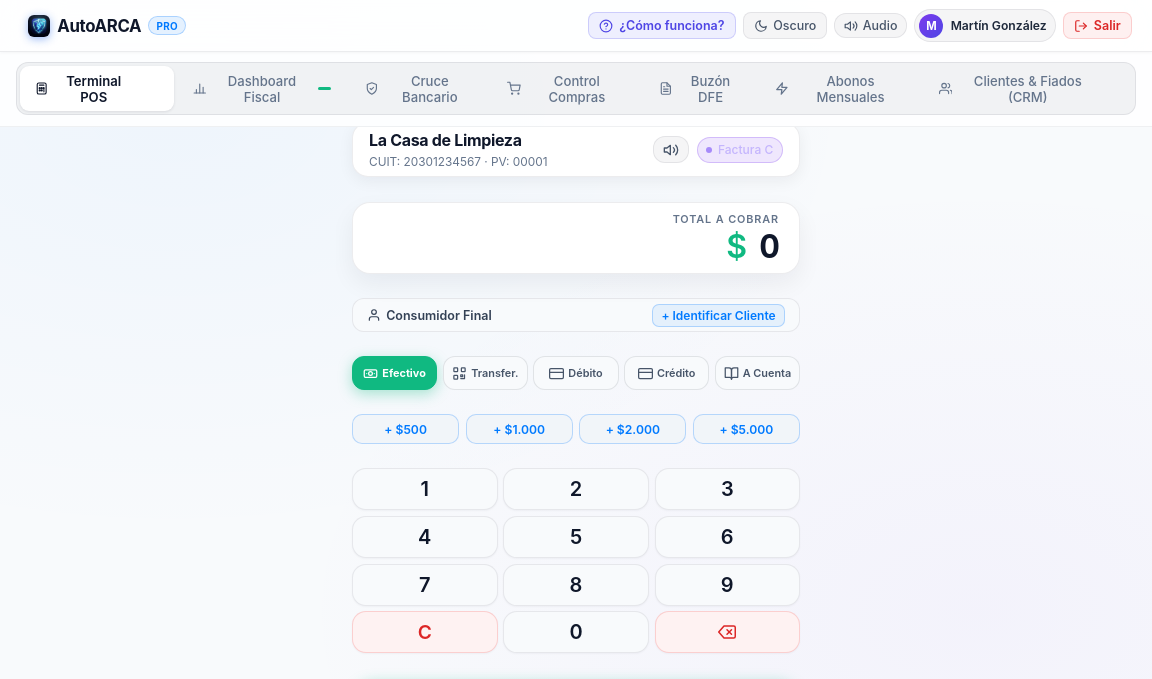
it: App Shell & Role Routing › permite alternar entre la vista POS y el Dashboard impositivo para clientes
Step 1. Click the tab "Dashboard Fiscal" → [262, 89], box [177,66,347,111]
(page scrolled)
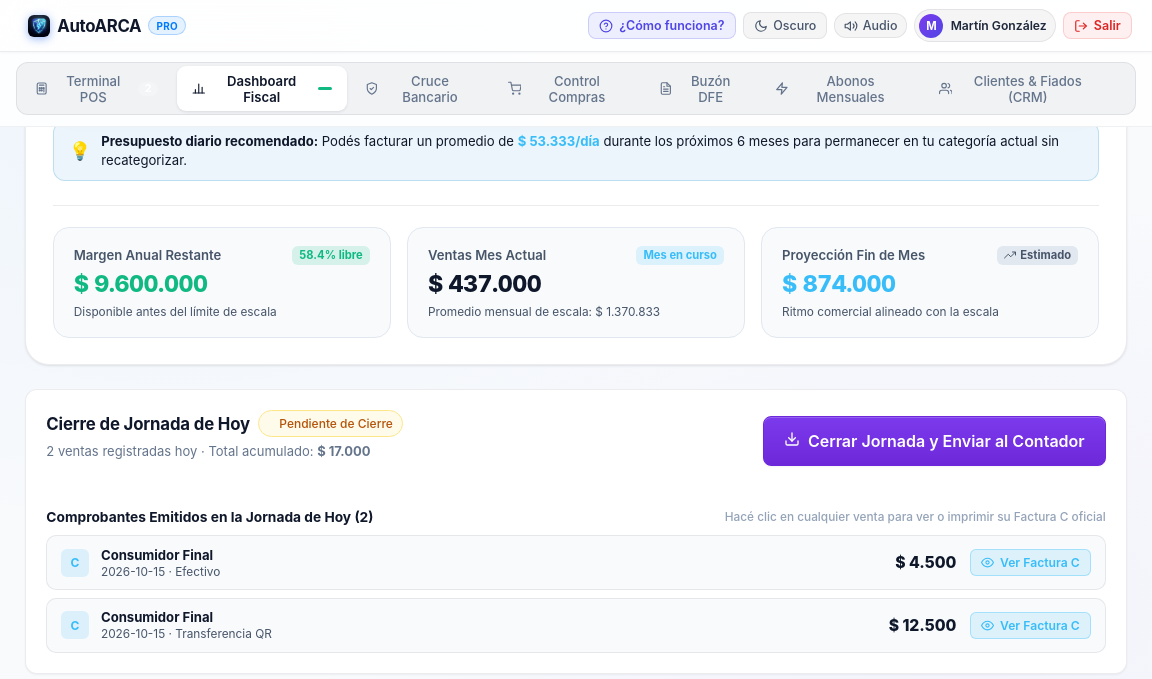
Now the heading "Cierre de Jornada de Hoy" is shown, box [46,414,250,434]
